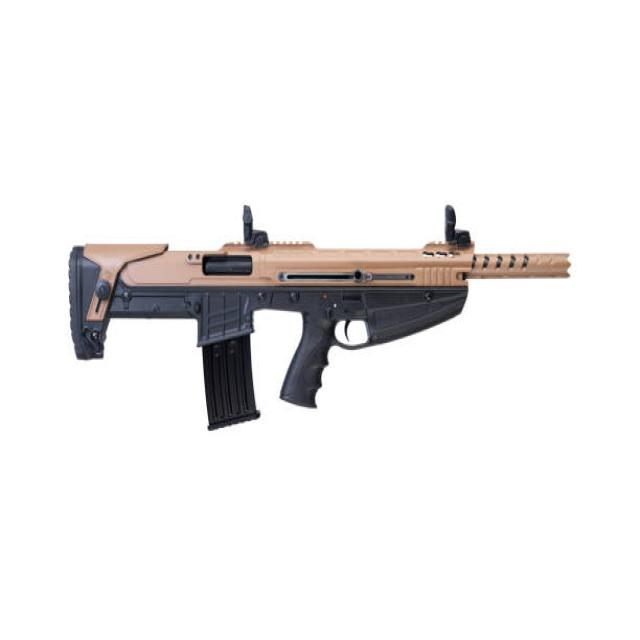rifle: (64, 206, 591, 446)
